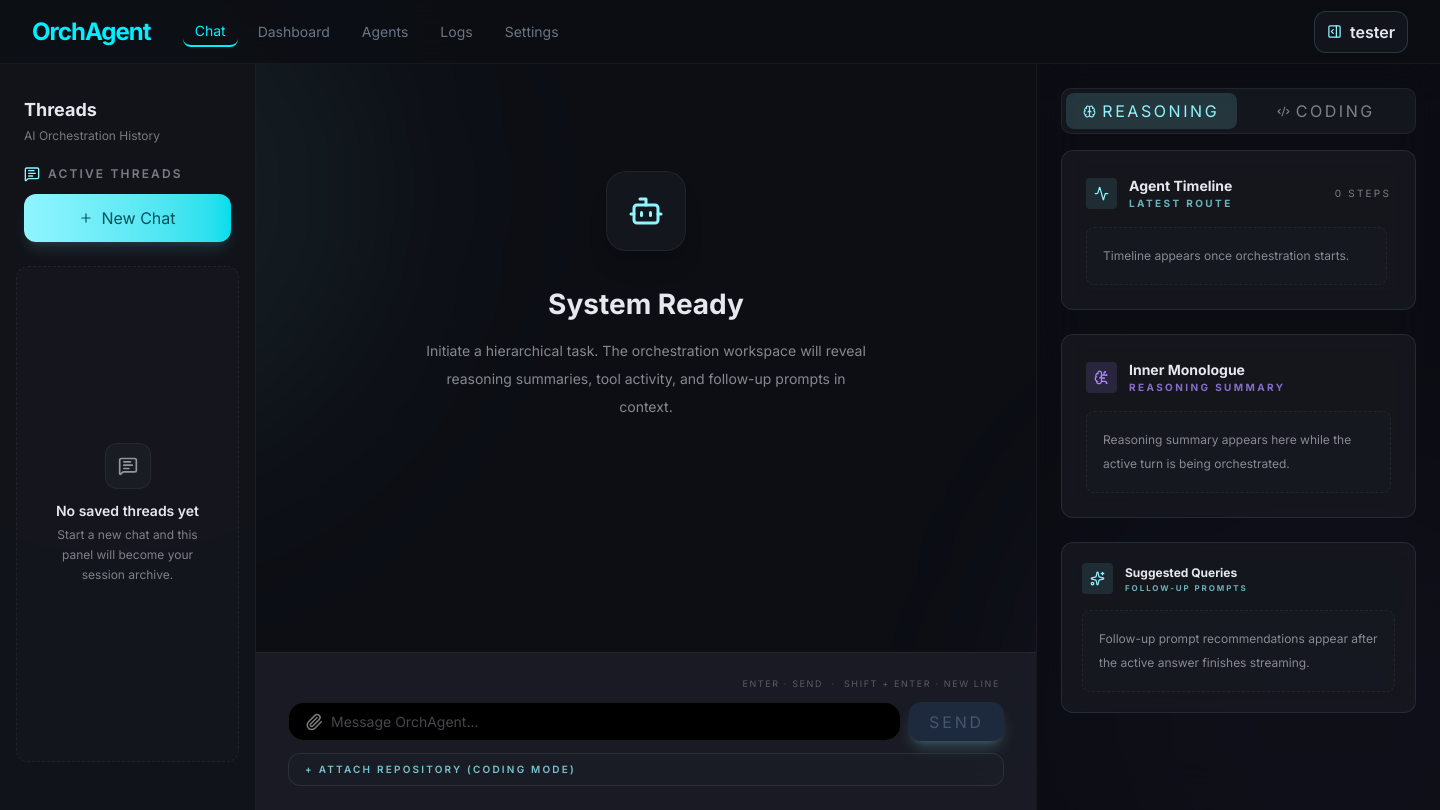
reasoning chunks stream into the Inner Monologue panel
Type "reasoning 테스트" into the text box with placeholder "Message OrchAgent..." at (612,722), box [331,703,892,740]
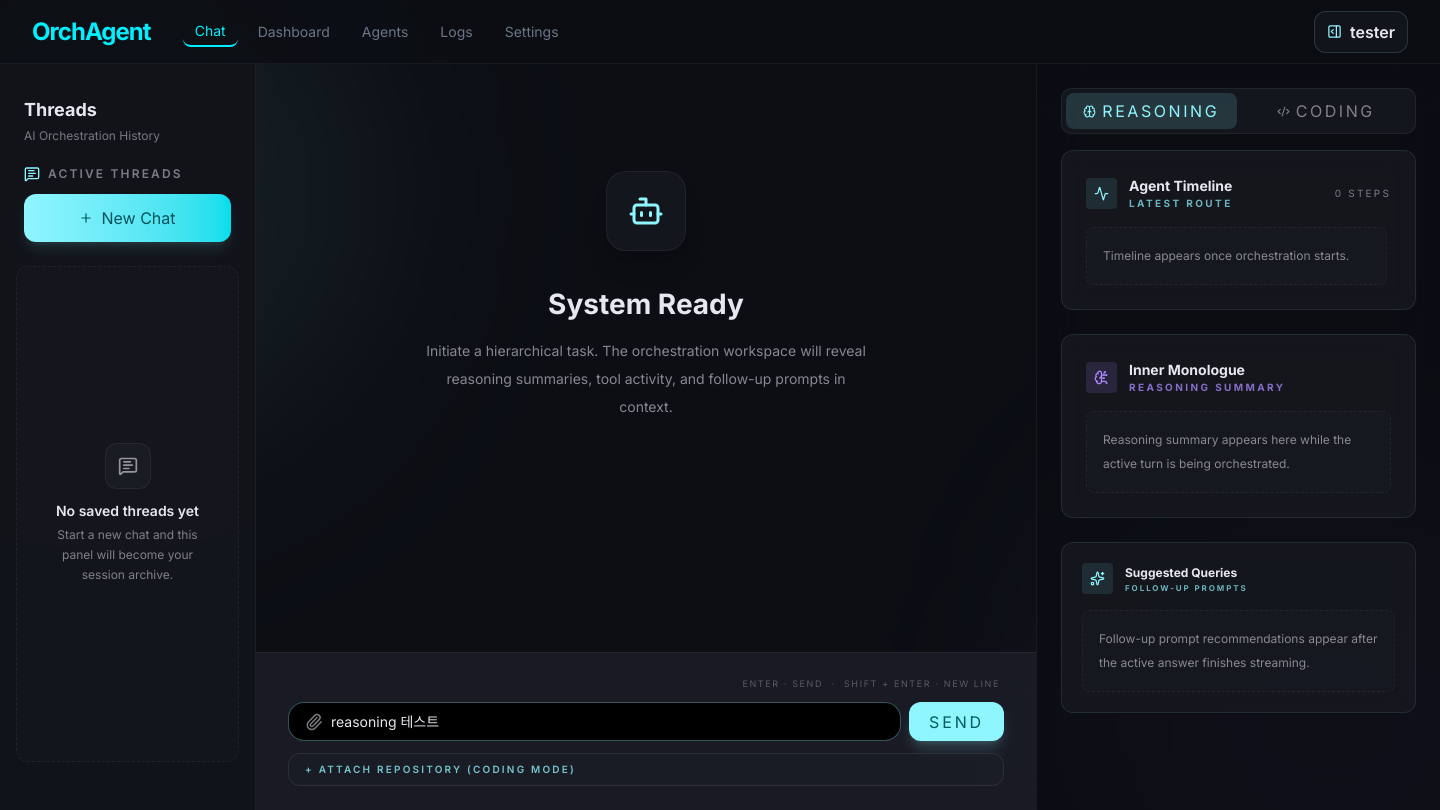
Click the button with aria-label "send message" at (956,722), box [909,702,1004,741]
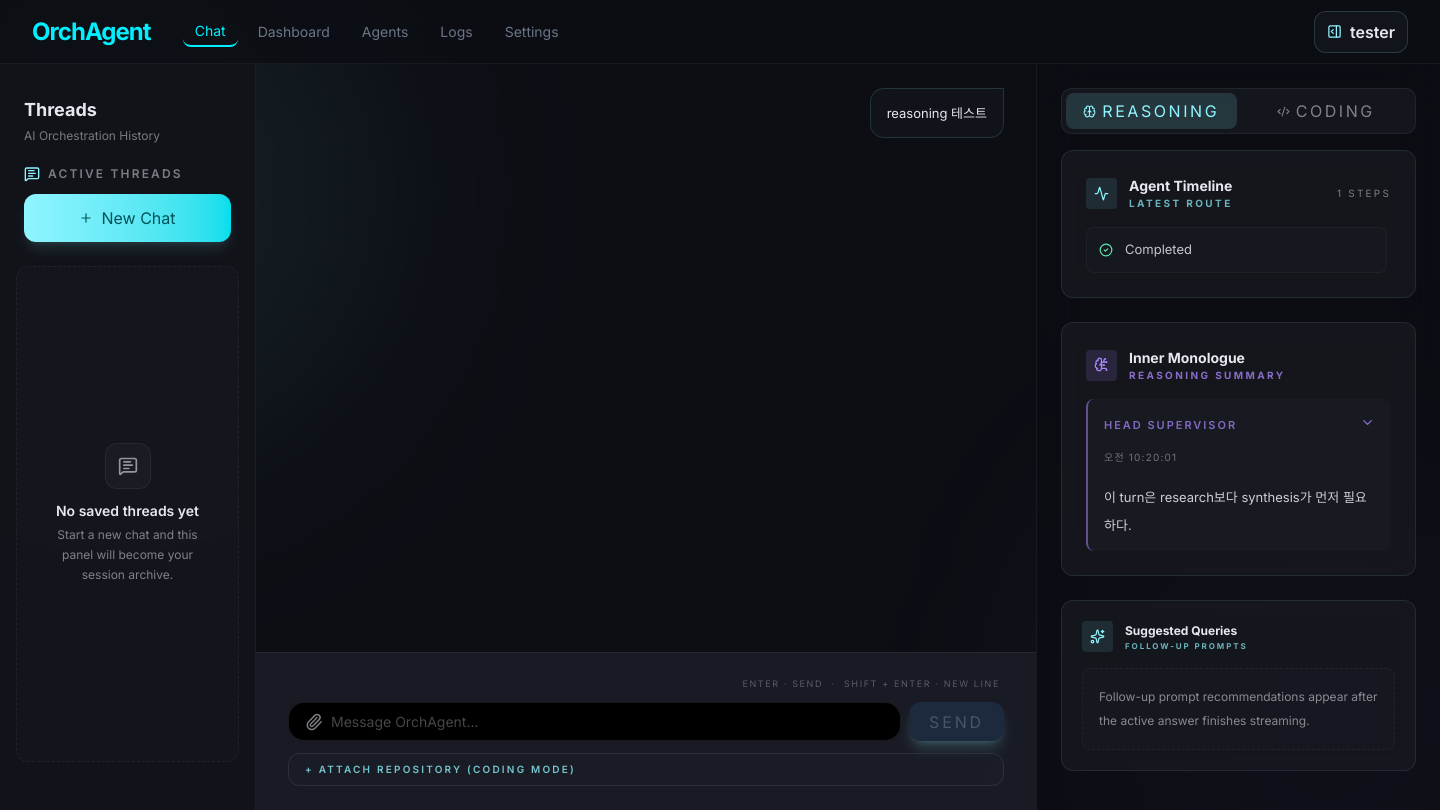
Now the text "이 turn은 research보다 synthesis가 먼저 필요하다." is shown, box [1104,482,1375,538]
